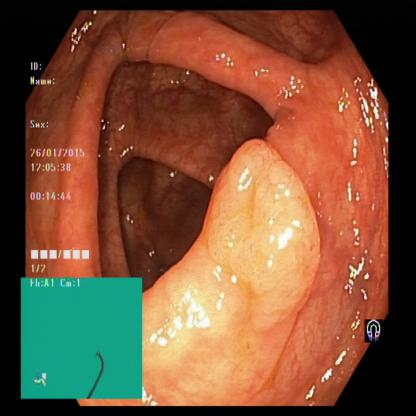Labels: (26, 61, 98, 276), (21, 277, 132, 391), (357, 308, 394, 363)
Polyps: (201, 146, 337, 304)
